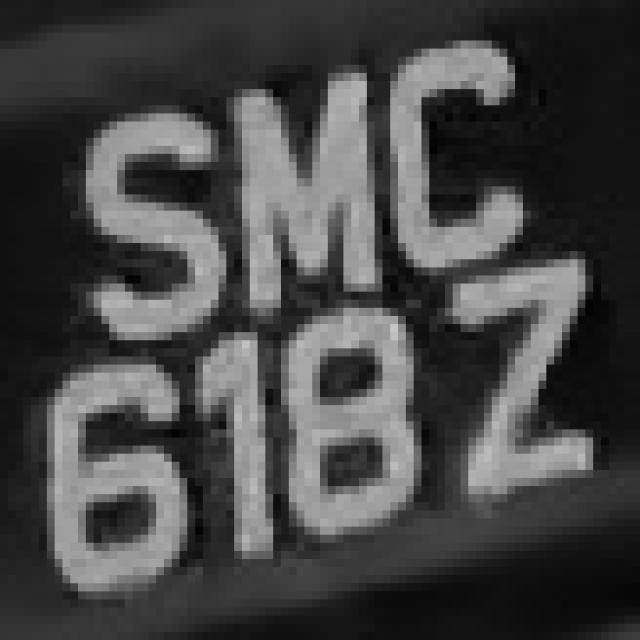1: (203, 300, 289, 575)
6: (31, 348, 180, 616)
8: (273, 283, 422, 551)
C: (359, 41, 539, 243)
M: (203, 49, 382, 340)
S: (55, 113, 218, 364)
Z: (429, 243, 609, 502)
